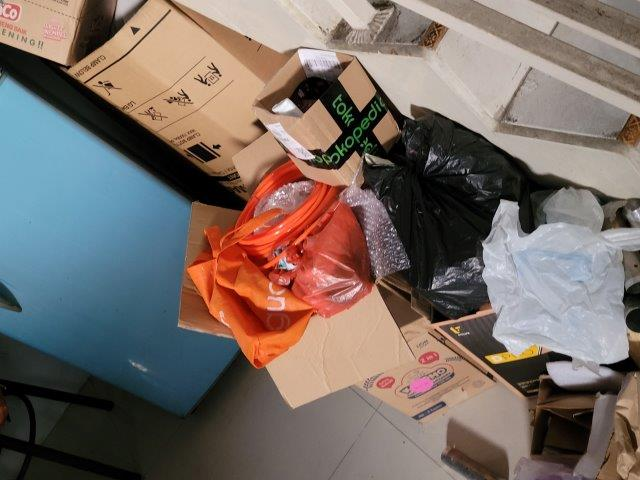kardus: (177, 186, 493, 422), (4, 2, 280, 201), (256, 51, 396, 180)
plastik: (482, 200, 640, 361), (396, 112, 517, 298)
